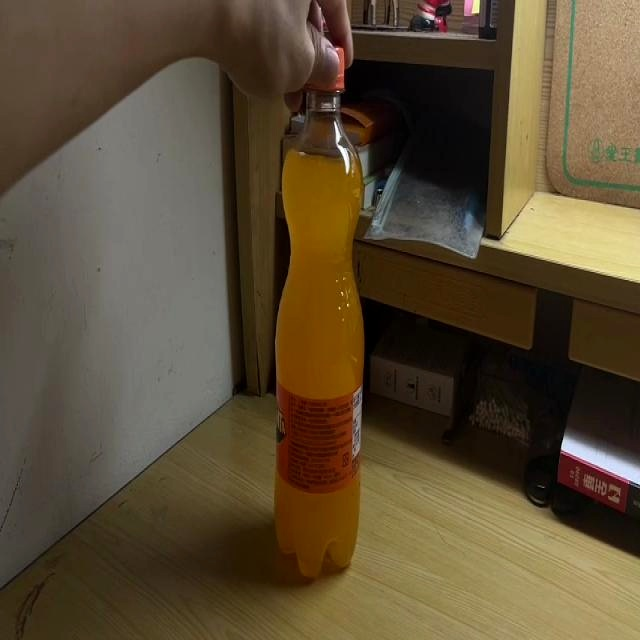Fanta: (276, 42, 364, 579)
